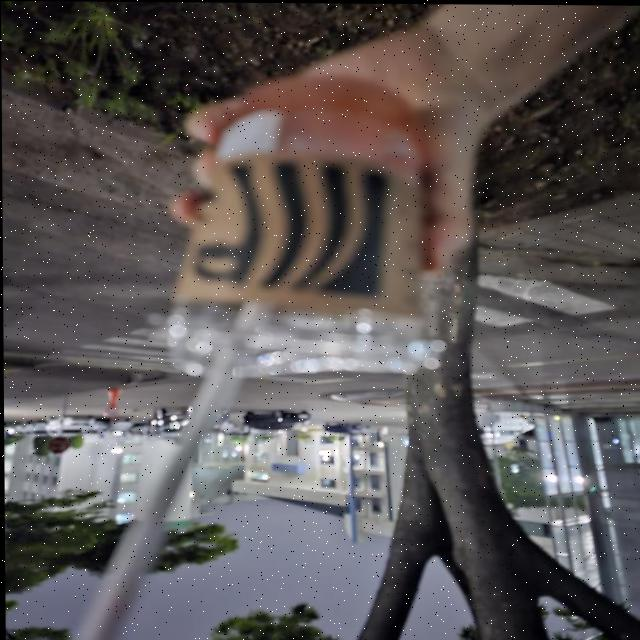cup: (152, 68, 458, 393)
